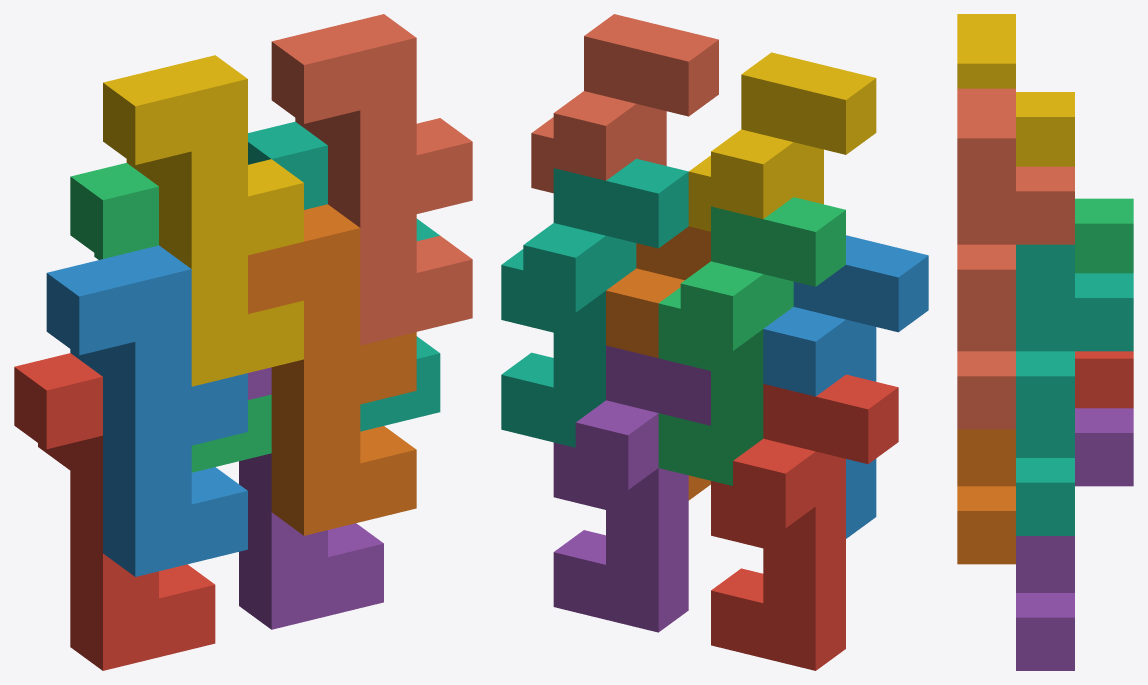
File: tiling.obj
3 views of the same model, side by side, from view 1: azimuth 30°, elevation 25°; view 2: azimuth 150°, elevation 25°; view 3: azimuth 270°, elevation 25° (orthographic). The views are drawn at different scales.
Parts seen in each view (by area): view 1: copy_1_domain_2, copy_1_domain_8, copy_1_domain_4, copy_1_domain_6, copy_1_domain_1, copy_1_domain_5, copy_1_domain_3, copy_1_domain_7; view 2: copy_1_domain_1, copy_1_domain_5, copy_1_domain_7, copy_1_domain_3, copy_1_domain_4, copy_1_domain_8, copy_1_domain_2, copy_1_domain_6; view 3: copy_1_domain_8, copy_1_domain_7, copy_1_domain_5, copy_1_domain_4, copy_1_domain_6, copy_1_domain_3, copy_1_domain_1.
Part boxes in pixels (x1=…): copy_1_domain_2: x1=46, y1=245, x2=247, y2=576; copy_1_domain_8: x1=271, y1=14, x2=472, y2=345; copy_1_domain_4: x1=103, y1=55, x2=303, y2=386; copy_1_domain_6: x1=248, y1=204, x2=416, y2=535; copy_1_domain_1: x1=14, y1=353, x2=215, y2=670; copy_1_domain_5: x1=239, y1=367, x2=383, y2=629; copy_1_domain_3: x1=70, y1=163, x2=271, y2=472; copy_1_domain_7: x1=248, y1=121, x2=440, y2=431; copy_1_domain_1: x1=711, y1=374, x2=898, y2=670; copy_1_domain_5: x1=553, y1=345, x2=710, y2=632; copy_1_domain_7: x1=501, y1=158, x2=688, y2=447; copy_1_domain_3: x1=658, y1=197, x2=845, y2=485; copy_1_domain_4: x1=688, y1=52, x2=876, y2=231; copy_1_domain_8: x1=531, y1=14, x2=718, y2=193; copy_1_domain_2: x1=763, y1=235, x2=928, y2=538; copy_1_domain_6: x1=606, y1=226, x2=710, y2=500; copy_1_domain_8: x1=957, y1=88, x2=1074, y2=429; copy_1_domain_7: x1=1016, y1=244, x2=1133, y2=535; copy_1_domain_5: x1=1016, y1=408, x2=1133, y2=670; copy_1_domain_4: x1=957, y1=14, x2=1074, y2=166; copy_1_domain_6: x1=957, y1=429, x2=1015, y2=564; copy_1_domain_3: x1=1075, y1=198, x2=1133, y2=273; copy_1_domain_1: x1=1075, y1=351, x2=1133, y2=408.
Size of the model in its own units: 7 by 10 by 3.
